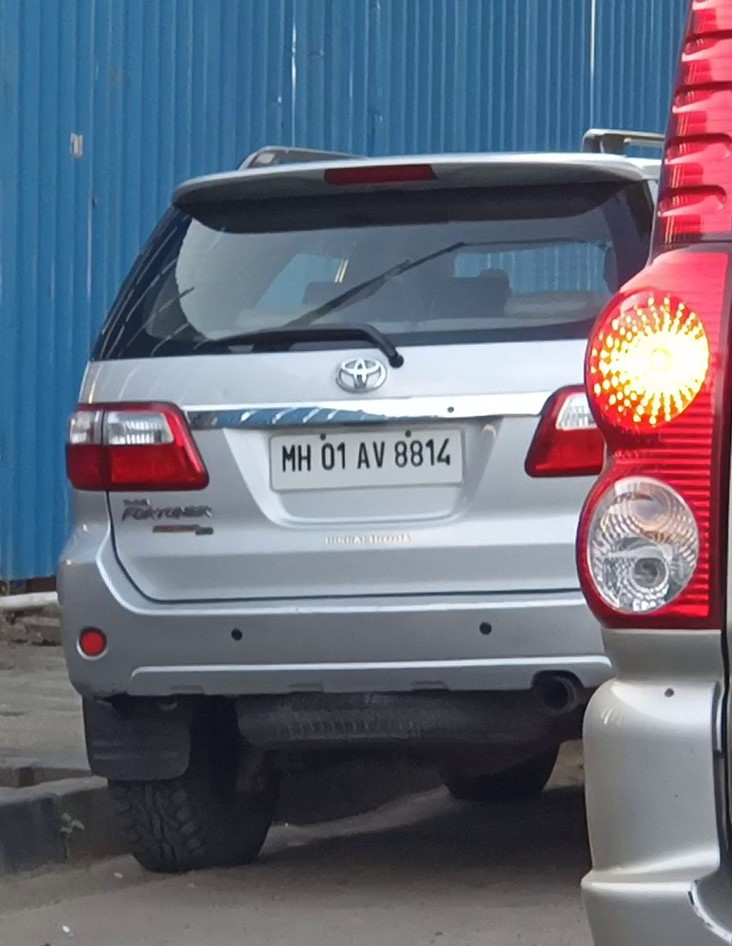MH01AV8814: (270, 426, 466, 486)
